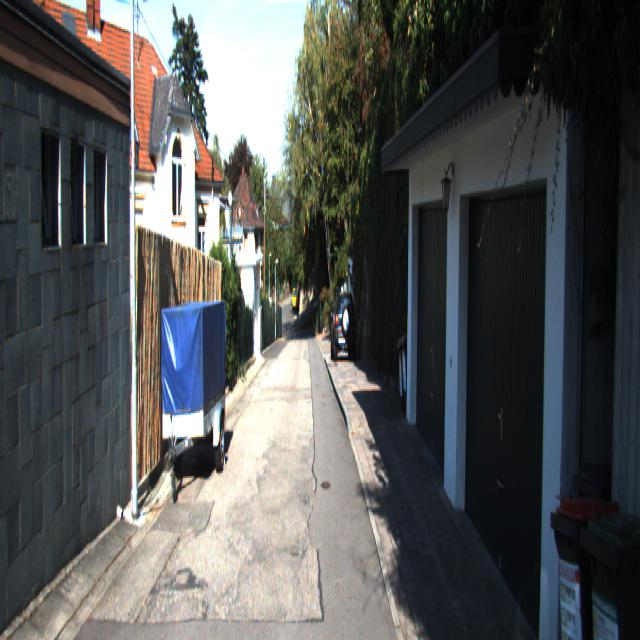Car: (159, 298, 226, 496), (330, 290, 357, 364)
